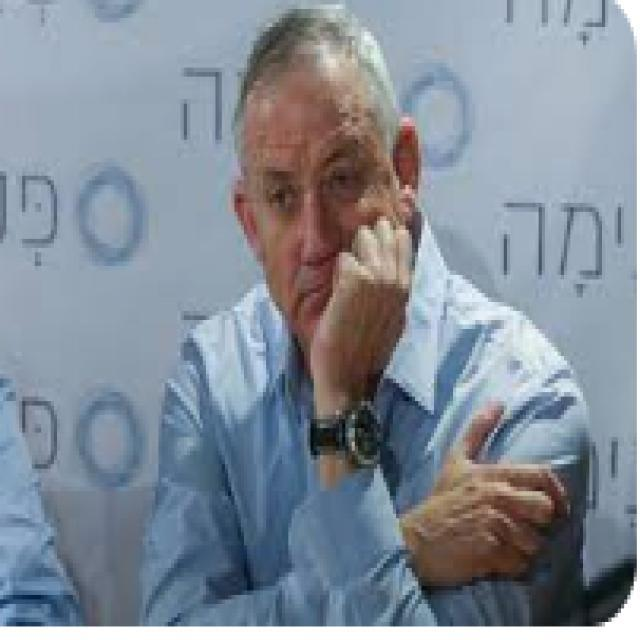Watch: (307, 398, 388, 474)
